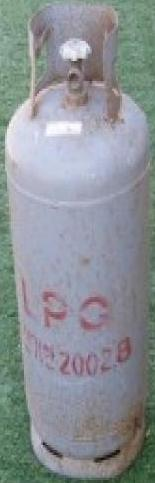cylinder: (1, 1, 155, 483)
